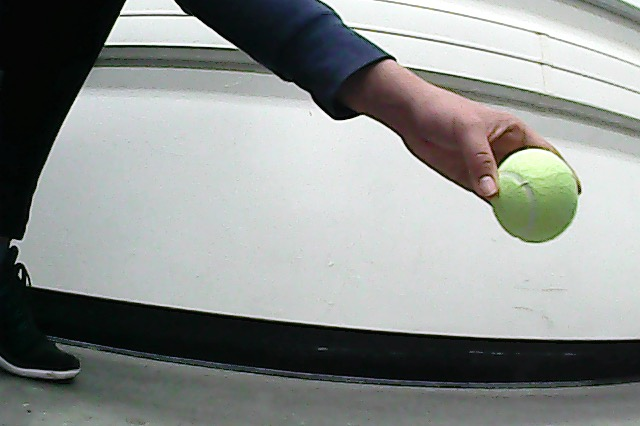ball: (490, 149, 578, 244)
